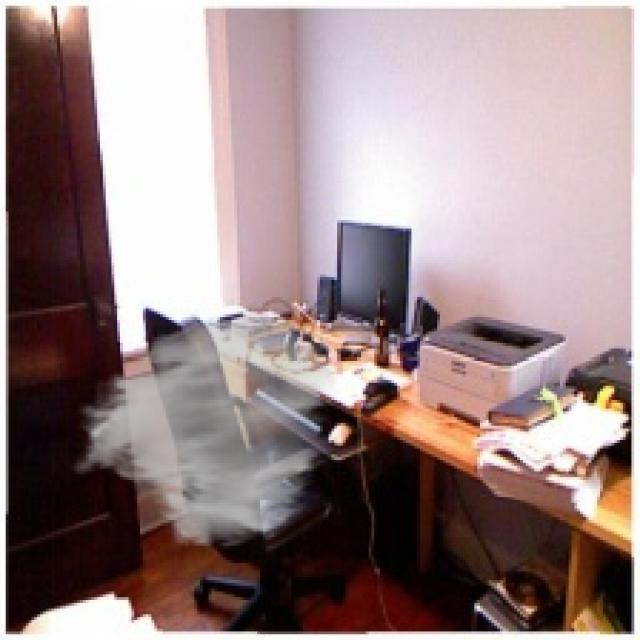smoke: (69, 308, 340, 552)
